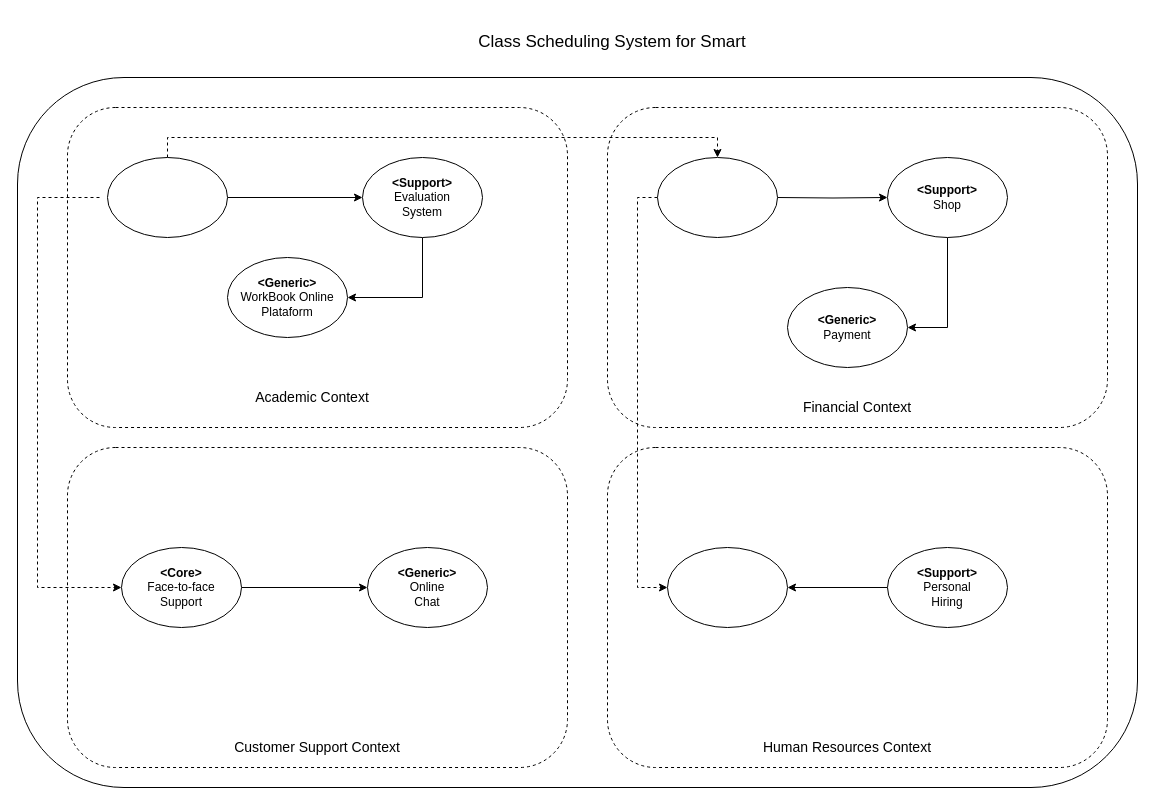
Some shapes in this 1155 by 805 pixel diagram are drawn without their labels. Here are the shapes that lost their labels. From the top down, the centre of each, then its label:
At (167,197): "<Core> Class Scheduling".
At (717,197): "<Core> Invoicing System".
At (727,587): "<Core> Students Enrollment".
